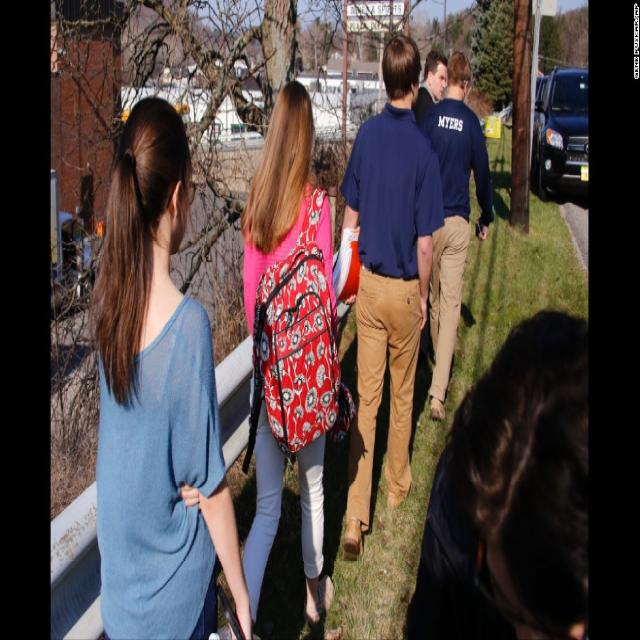body: (86, 90, 262, 639), (400, 305, 590, 640), (331, 34, 446, 568), (240, 79, 342, 640), (410, 49, 495, 424), (411, 46, 449, 369)
